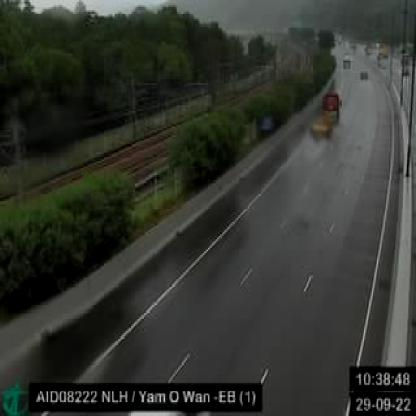Car: (341, 52, 352, 71), (358, 68, 370, 80)
Truck: (305, 87, 342, 147)
